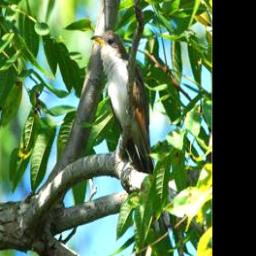Cuckoo: (91, 29, 155, 172)
